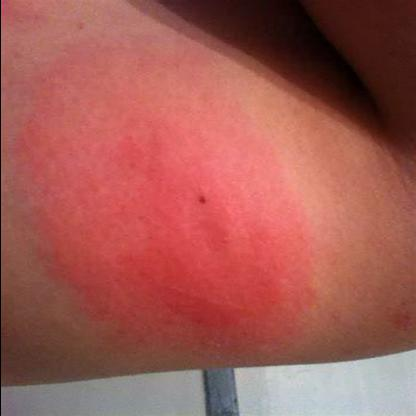Wasp: (51, 89, 310, 346)
